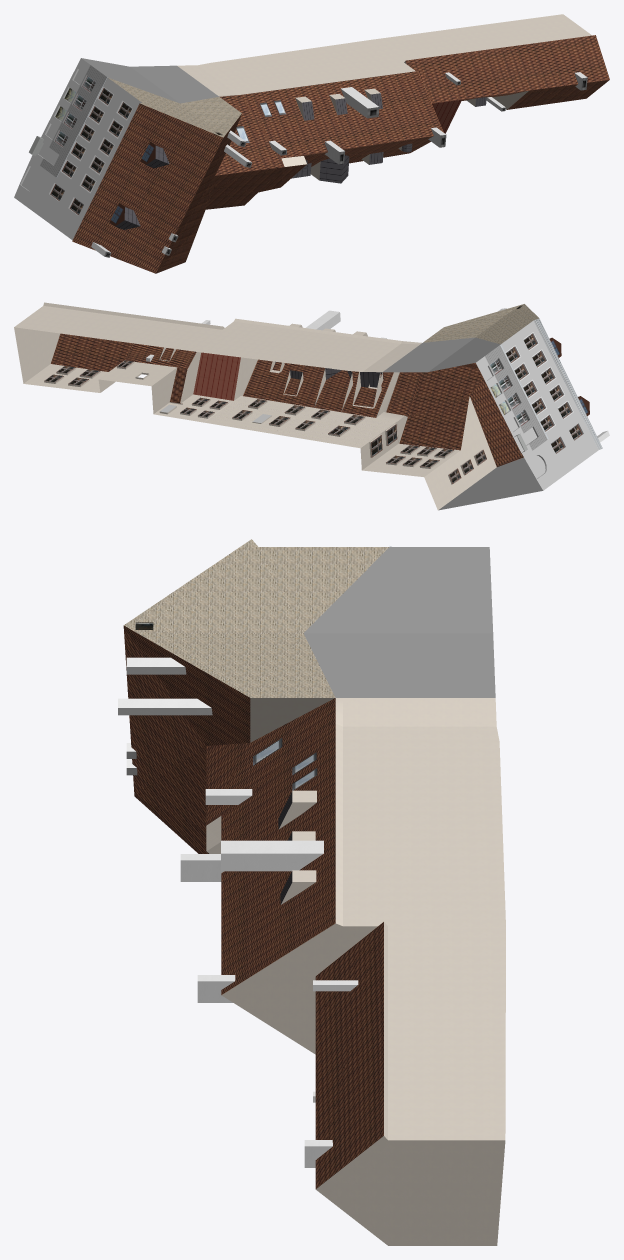
File: Vene_8_1.obj
The picture shows the model from 3 angles, top to bottom: view 1: azimuth 30°, elevation 25°; view 2: azimuth 150°, elevation 25°; view 3: azimuth 270°, elevation 25°; orthographic projection. The views are drawn at different scales.
Parts seen in each view (by area): view 1: Vene_8_1; view 2: Vene_8_1; view 3: Vene_8_1.
Boxes of the visible parts, box(x1,y1,x2,y2) form: Vene_8_1: box(14, 14, 609, 273); Vene_8_1: box(14, 302, 609, 510); Vene_8_1: box(118, 539, 505, 1245).
Size of the model in its own units: 69.91 by 20.28 by 22.34.
